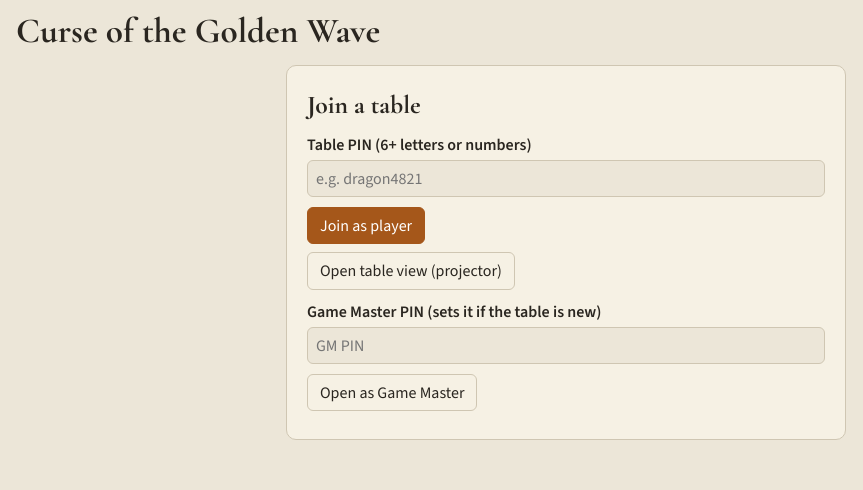
<Game /> joining › a wrong GM PIN is refused
The image size is (863, 490).
Type "dragon42" into the field labelled "Table PIN (6+ letters or numbers)" at x=566, y=179, box [307,160,825,197]
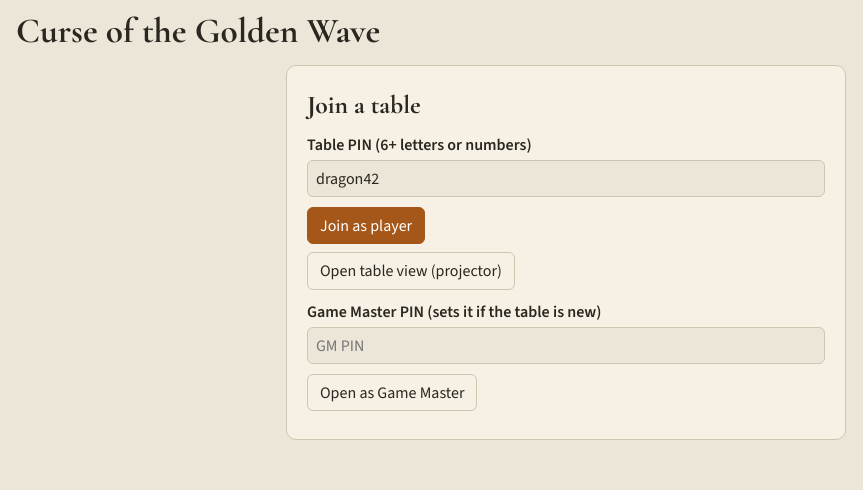
Type "wrong" into the password field labelled "Game Master PIN (sets it if the table is new)" at x=566, y=345, box [307,327,825,364]
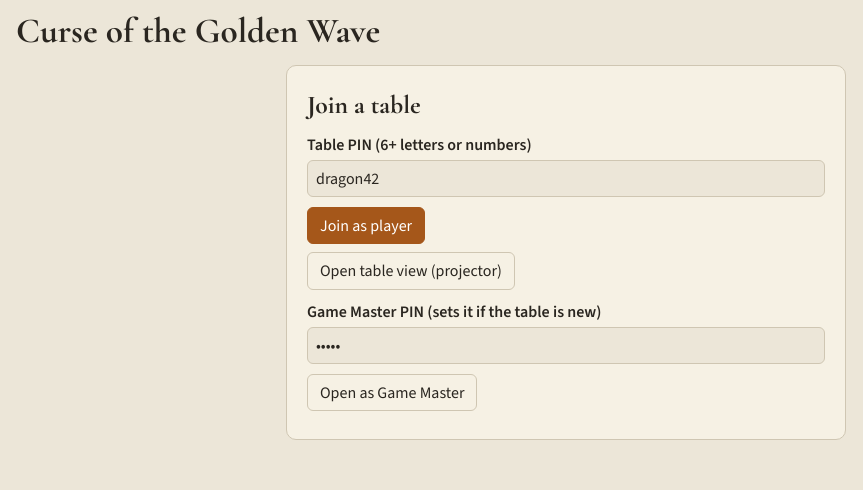
Click the button "Open as Game Master" at x=392, y=393, box [307,374,478,411]
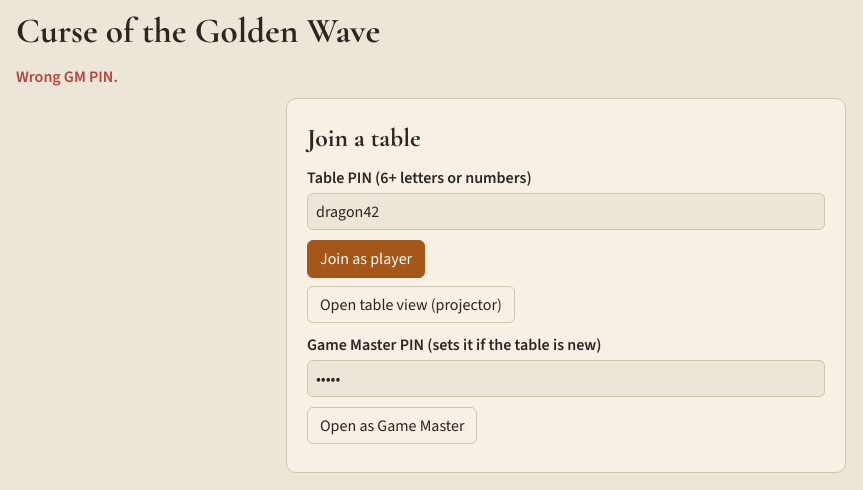
Expected: the text "Wrong GM PIN." is shown, [16,66,118,87]
